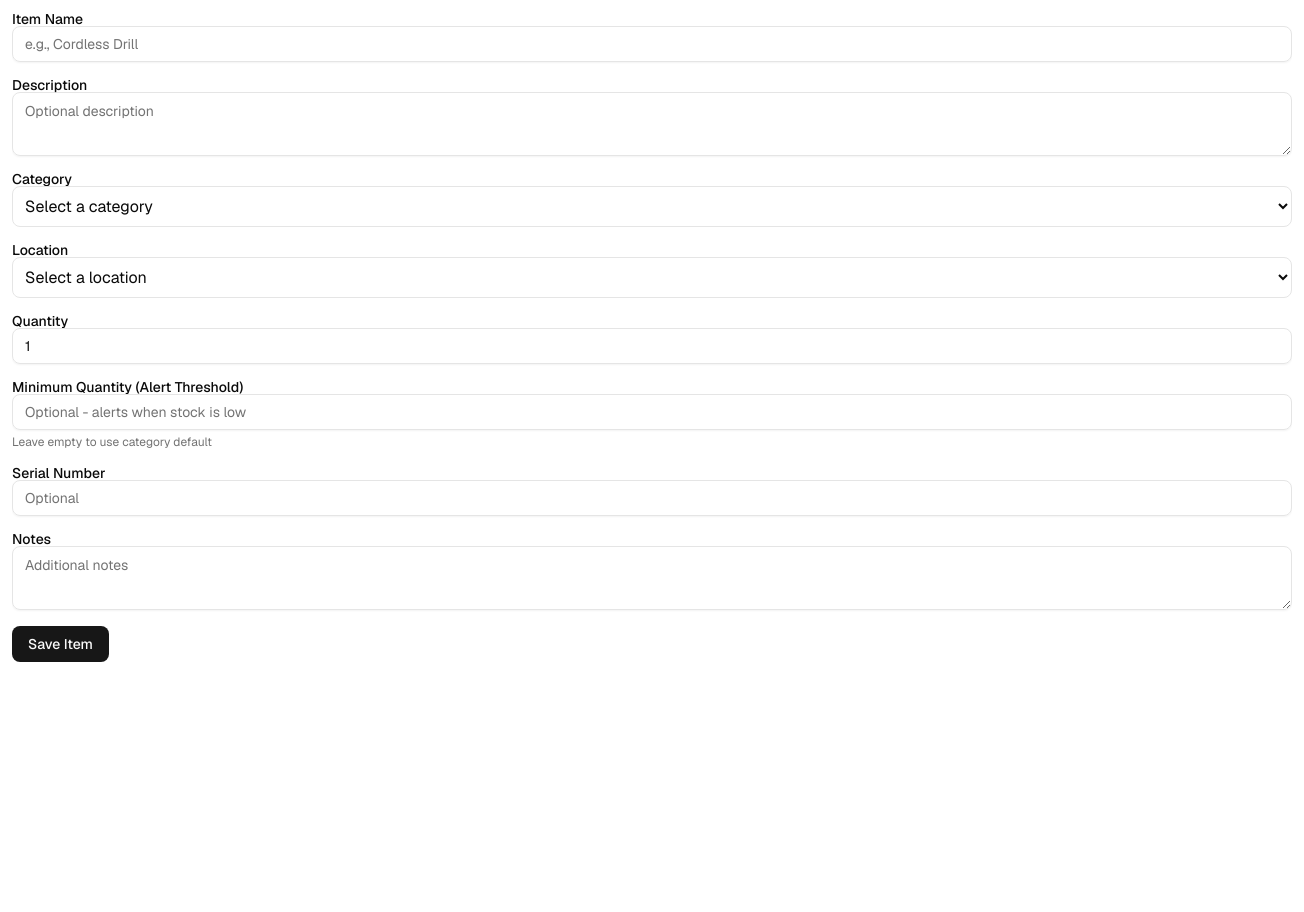
Test case: ItemForm - Location Dropdown › Integration Tests › should preserve location selection on form error
Select "Tools" in the 1st dropdown: (652, 206) [12, 186, 1292, 227]
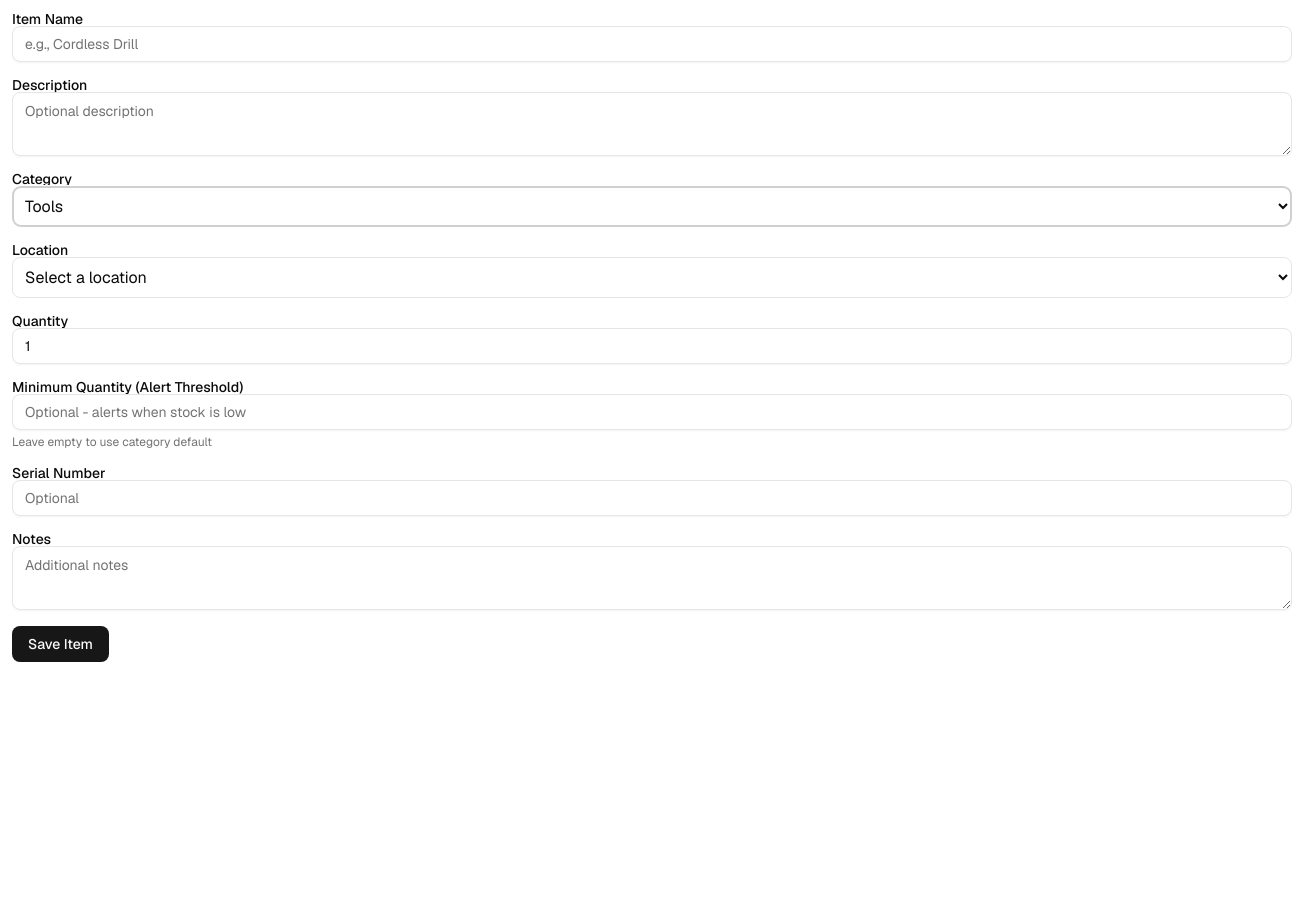
Select "Shed" in the dropdown below "Location": (652, 278) [12, 257, 1292, 298]
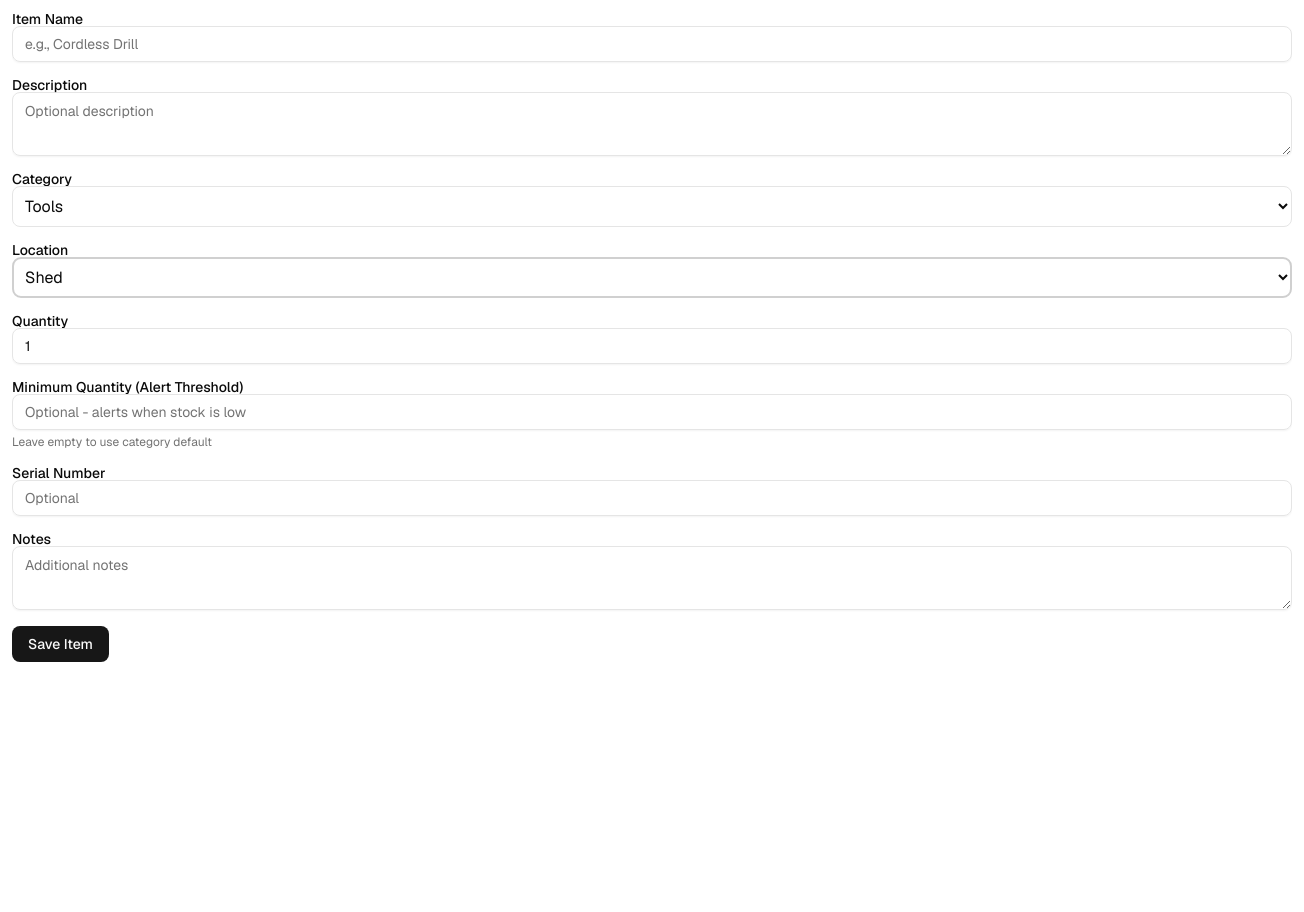
Click the button "Save Item": (60, 644) [12, 626, 109, 662]
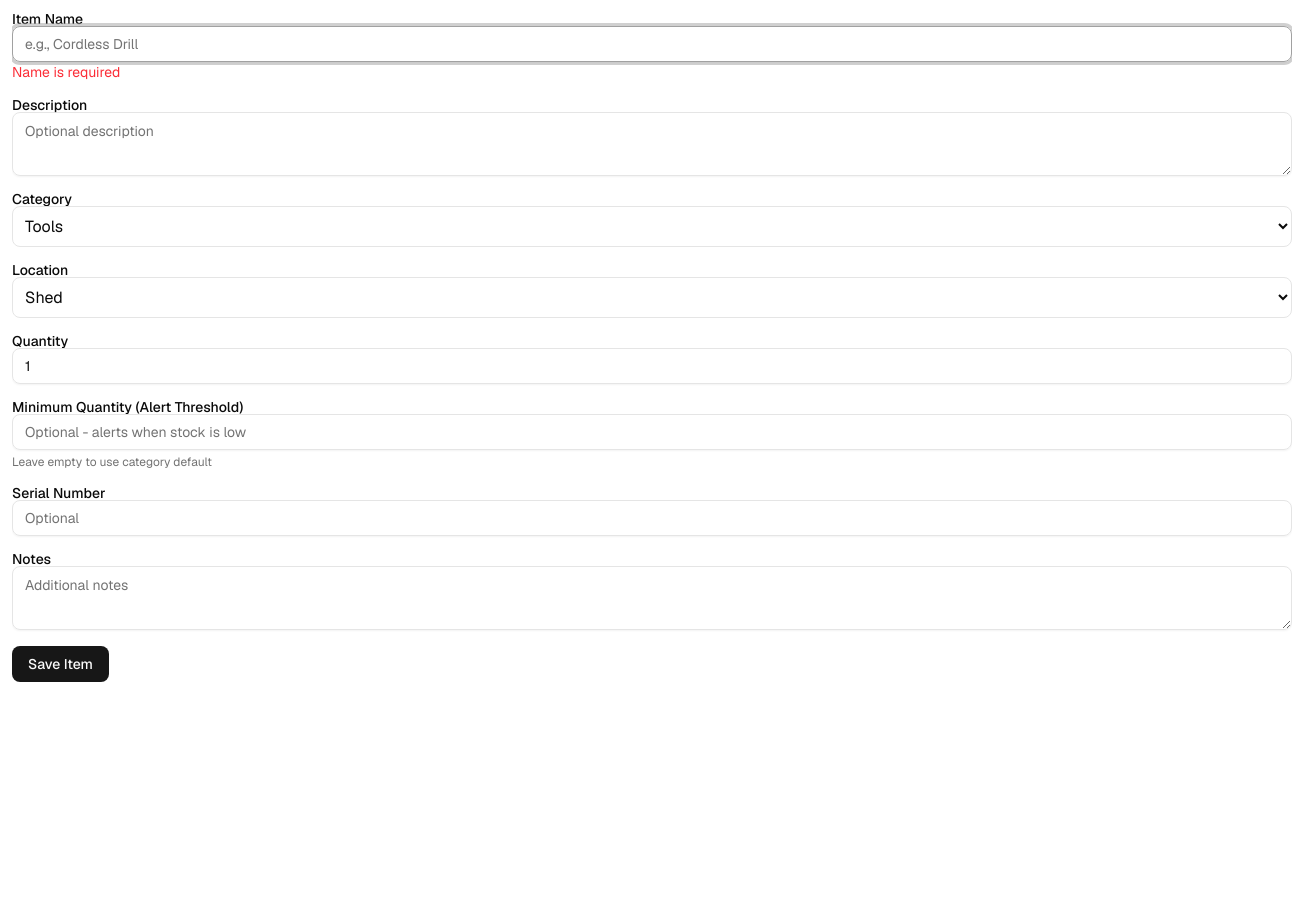
expect the text "Name is required" is shown: met, box [12, 63, 120, 81]
